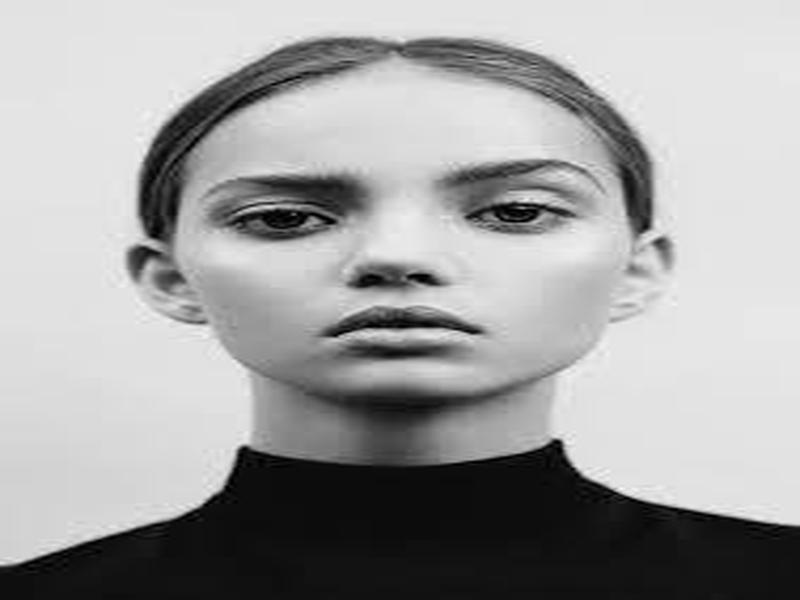without_mask: (185, 120, 626, 406)
